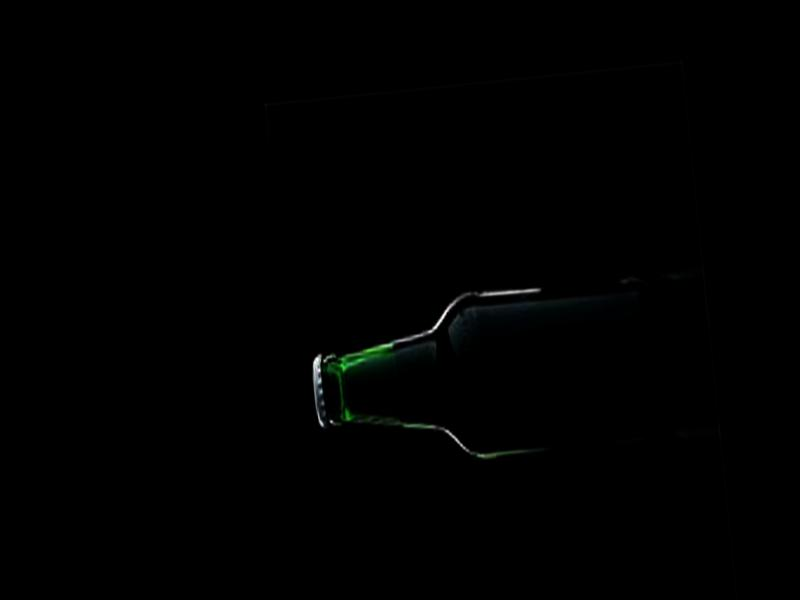Beer: (303, 267, 661, 476)
